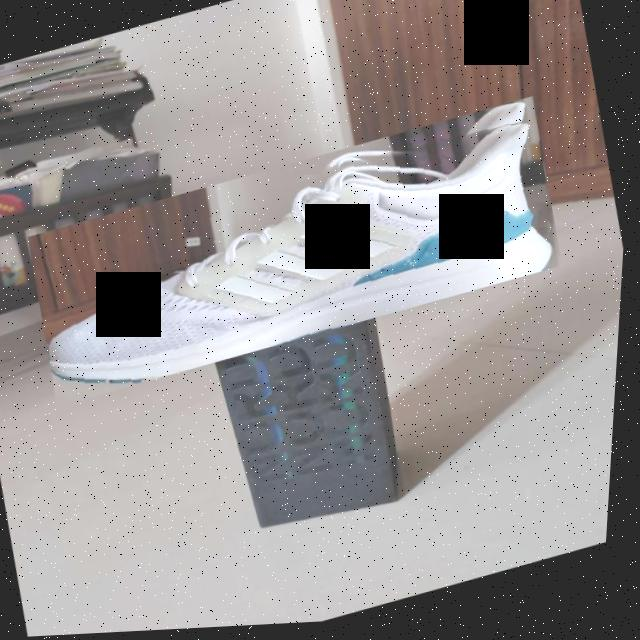shoe: (23, 100, 573, 408)
